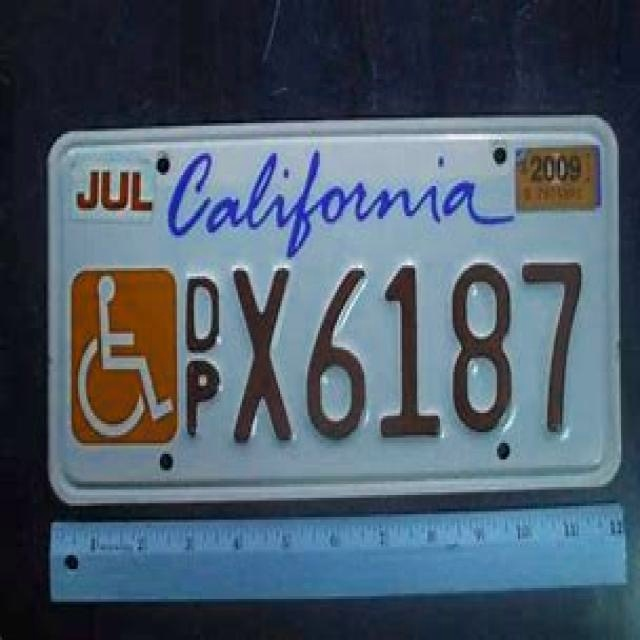ISA: (80, 274, 176, 444)
